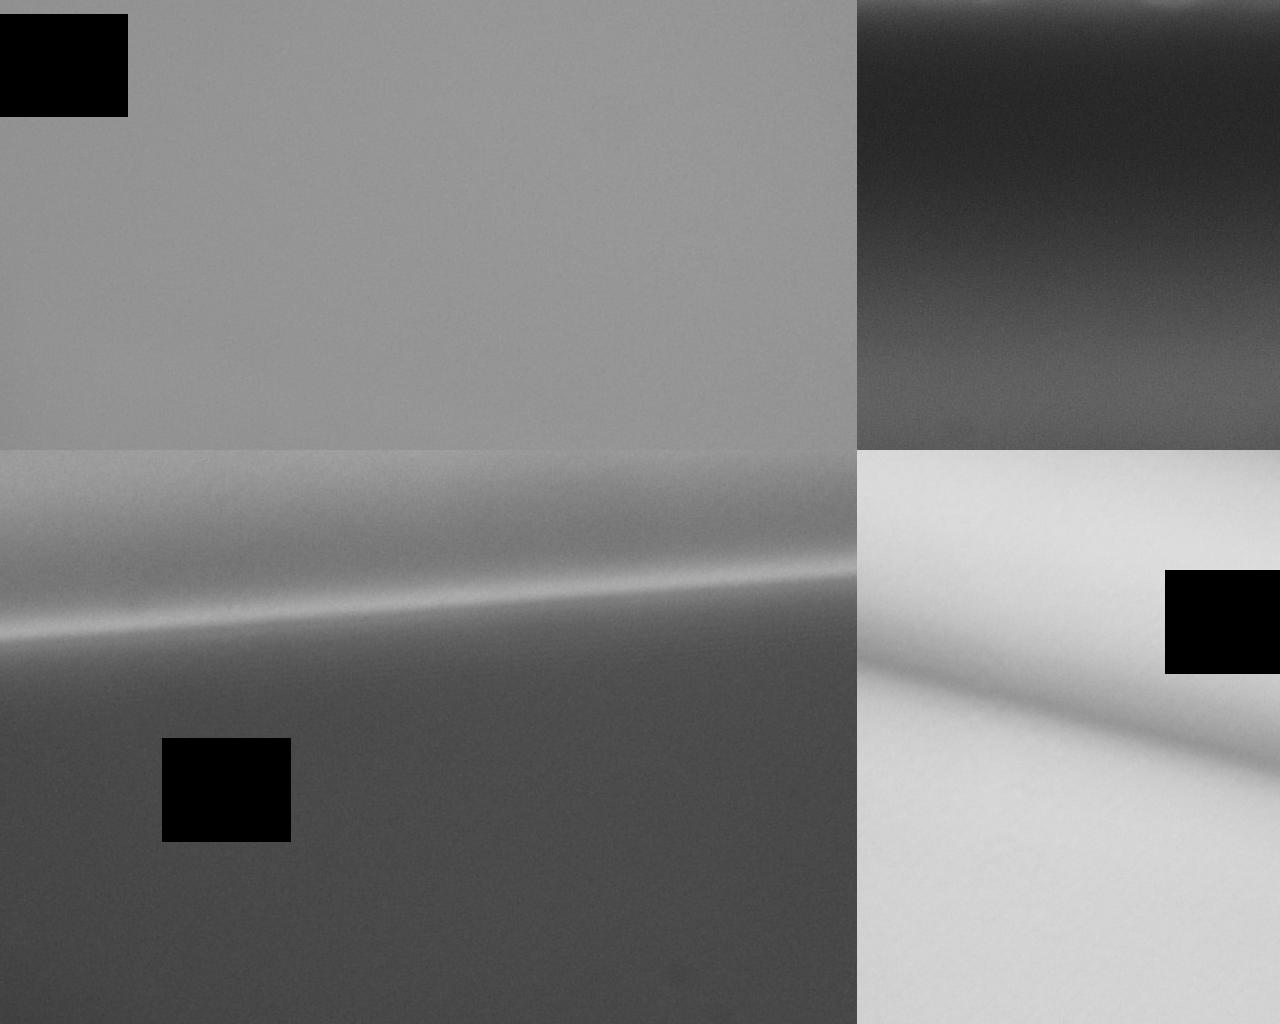fiber: (922, 378, 1253, 1024), (639, 163, 1280, 378), (440, 378, 639, 746)
